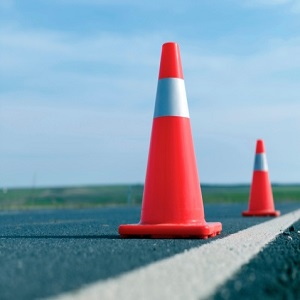traffic cone: (118, 42, 223, 235), (242, 139, 281, 215)
